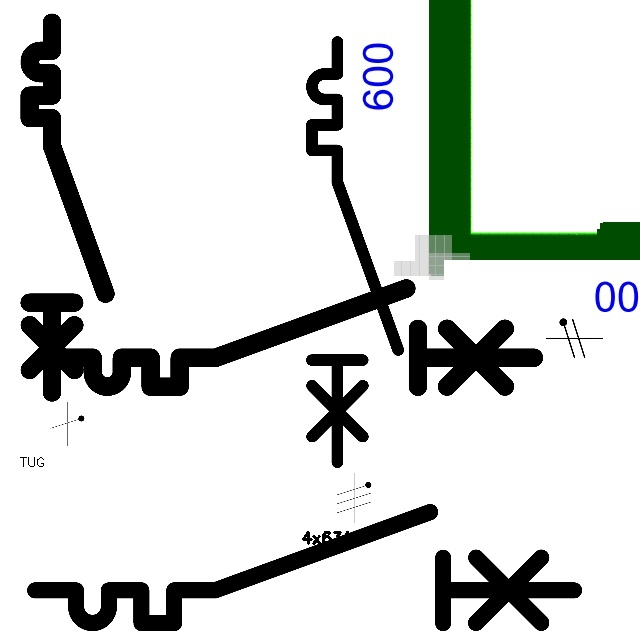interruptor_termomagnetico: (21, 498, 587, 637), (44, 276, 546, 399), (301, 31, 409, 473), (20, 13, 115, 402)
